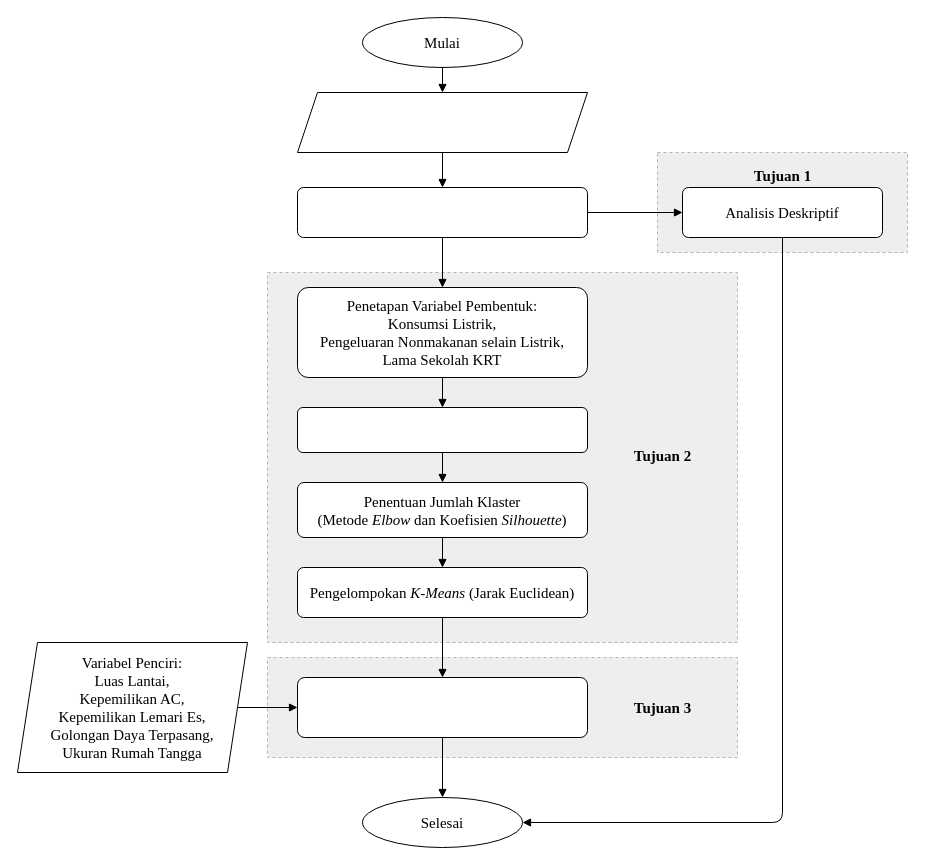
The diagram is 925 pixels wide and 865 high, and some of its shapes have lost their labels. The shapes that lost their labels are listed below. From the top down, each one's centre as x and y in pixels, then its label:
point (442, 122): Mikrodata Susenas Maret 2025, Provinsi DKI Jakarta
point (442, 212): Persiapan Data
point (442, 429): Standardisasi Z-score
point (442, 707): Profiling Klaster dan Pengujian Hipotesis pada Variabel Penciri
